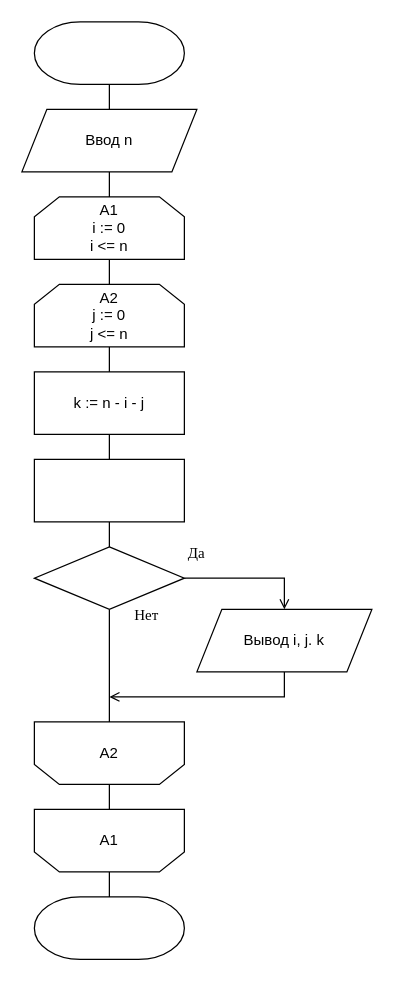
The diagram is 394 pixels wide and 981 high, and some of its shapes have lost their labels. The box of each missing label's shape, as (x1, y1, x2, y2) in pixels:
res := i + j + k: (33, 458, 184, 522)
res = n and k >= 0: (33, 546, 184, 609)
Вход: (33, 21, 184, 84)
Выход: (33, 896, 184, 959)
